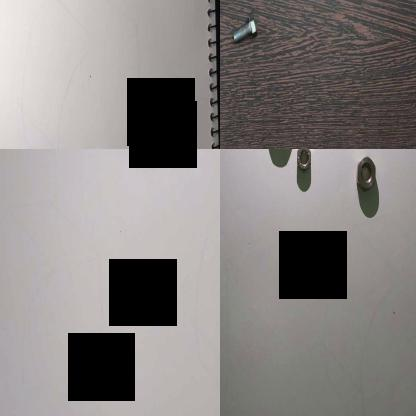Bolts: (224, 7, 258, 48)
NUTS: (354, 154, 376, 194), (134, 149, 163, 167), (293, 149, 313, 173), (175, 149, 194, 166)
